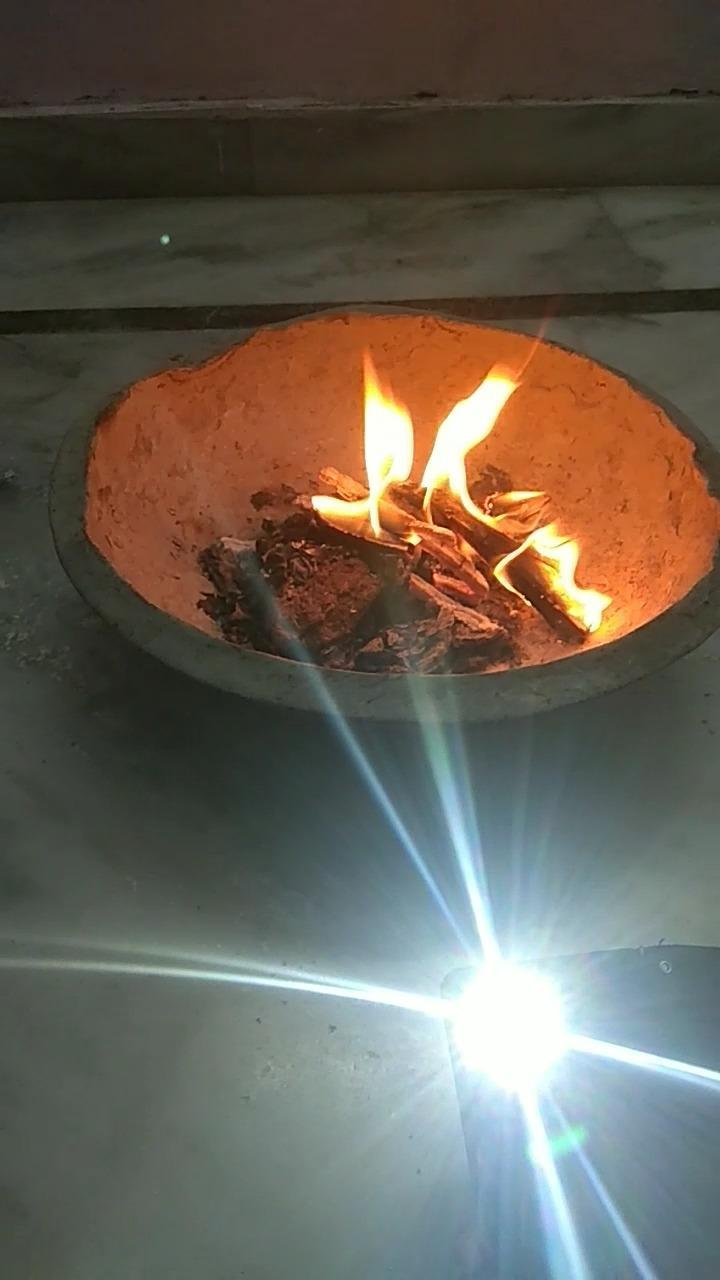fire: (301, 340, 540, 528), (503, 510, 613, 636)
